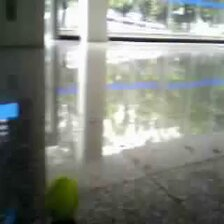tennis: (43, 175, 79, 215)
